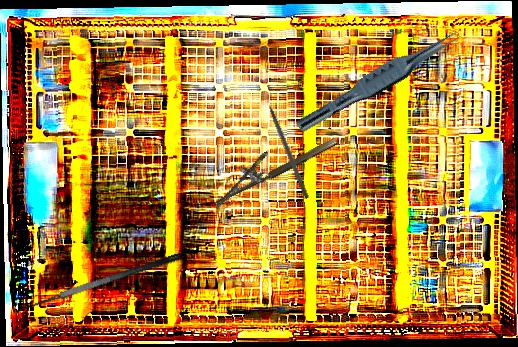Hook Surgical: (262, 92, 311, 200)
Needle Holder: (203, 120, 339, 209)
Spatula Surgical: (10, 250, 188, 326)
Tissue Forceps: (295, 20, 464, 143)
